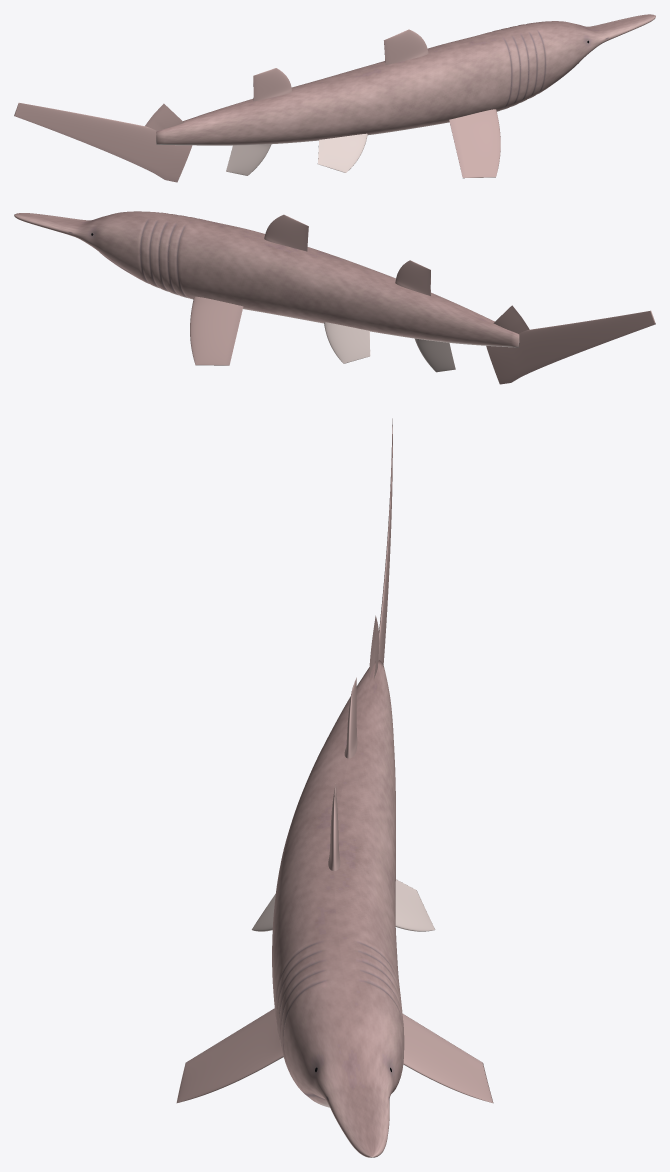
The model's file is goblin_shark.glb.
The picture shows the model from 3 angles, top to bottom: view 1: azimuth 30°, elevation 25°; view 2: azimuth 150°, elevation 25°; view 3: azimuth 270°, elevation 25°; orthographic projection. The views are drawn at different scales.
Visible parts, largest first — view 1: GoblinShark_Body, GoblinShark_Fins; view 2: GoblinShark_Body, GoblinShark_Fins; view 3: GoblinShark_Body, GoblinShark_Fins.
Part boxes in pixels (<box>): GoblinShark_Body: <box>156,14,655,145</box>; GoblinShark_Fins: <box>14,29,500,182</box>; GoblinShark_Body: <box>14,211,519,347</box>; GoblinShark_Fins: <box>190,214,655,384</box>; GoblinShark_Body: <box>272,660,404,1157</box>; GoblinShark_Fins: <box>176,418,493,1103</box>.
Size of the model in its own units: 3.5 by 0.7278 by 0.7548.
Materials: 3 (1 with a texture image).
